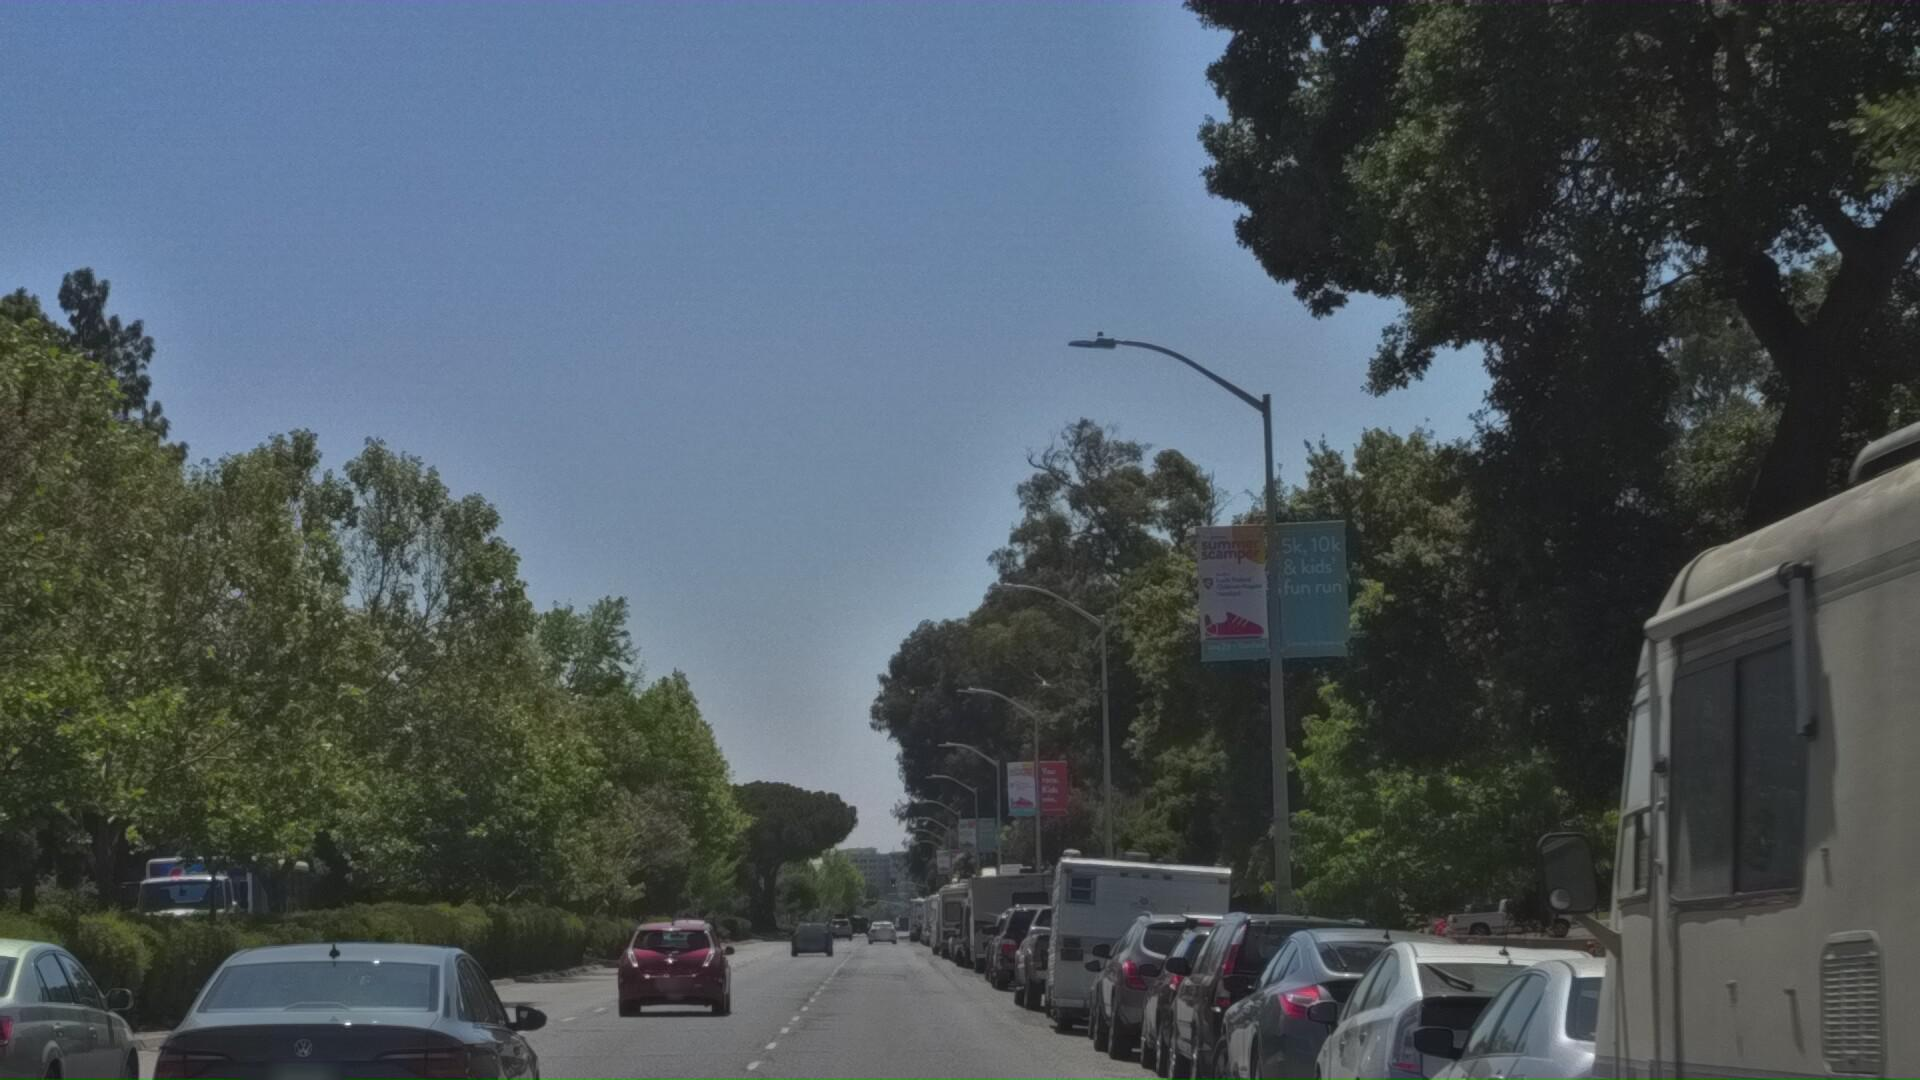car: (1396, 930, 1920, 1080), (1295, 928, 1726, 1080), (1203, 924, 1571, 1080), (125, 956, 574, 1080), (1158, 906, 1437, 1080), (1133, 913, 1361, 1080), (1096, 913, 1292, 1080), (0, 961, 179, 1080), (1011, 916, 1158, 1062), (621, 948, 746, 1063), (992, 924, 1091, 1018)
other_vehicle: (1495, 0, 1920, 1080), (1040, 852, 1261, 1072)
truck: (105, 877, 338, 959)
